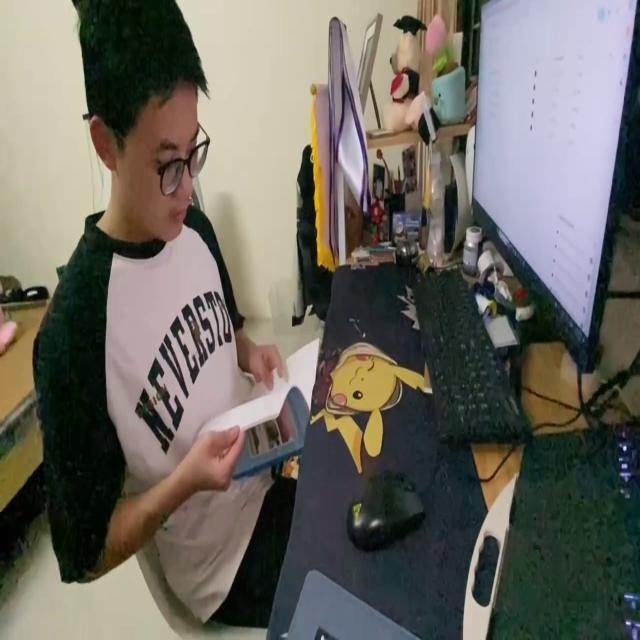book: (191, 339, 323, 474)
laptop: (469, 0, 640, 373)
student: (31, 0, 298, 622)
